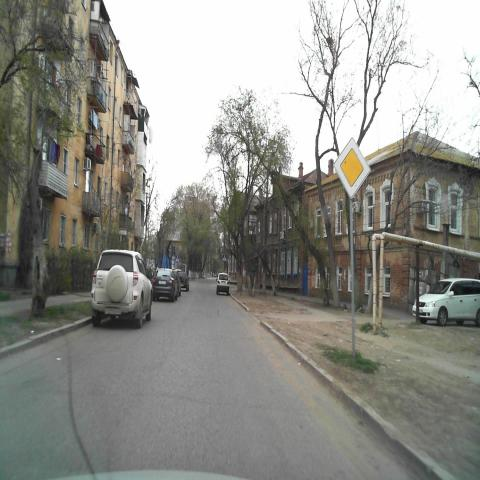2_1: (332, 136, 372, 201)
